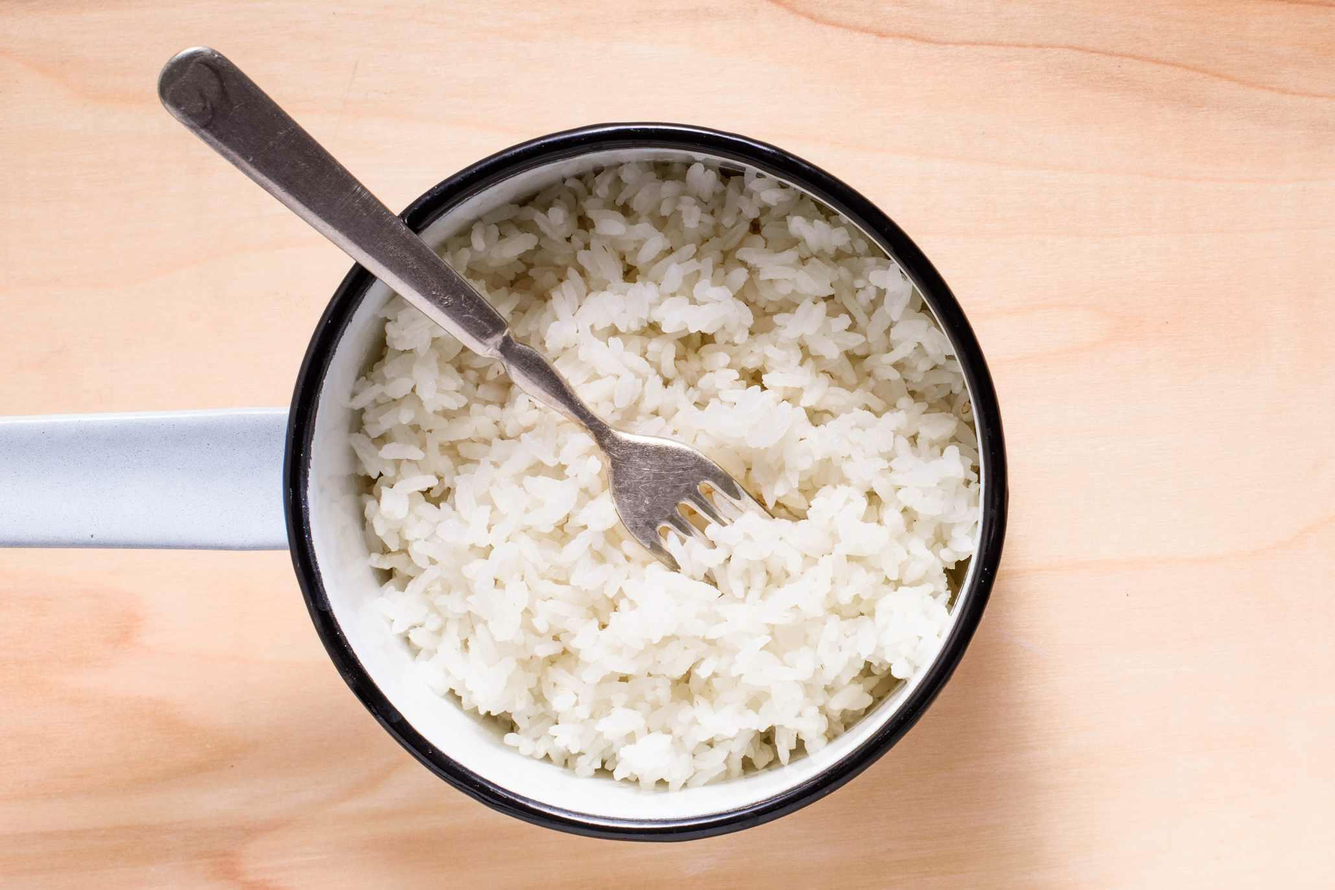WhiteRice: (339, 150, 984, 786)
